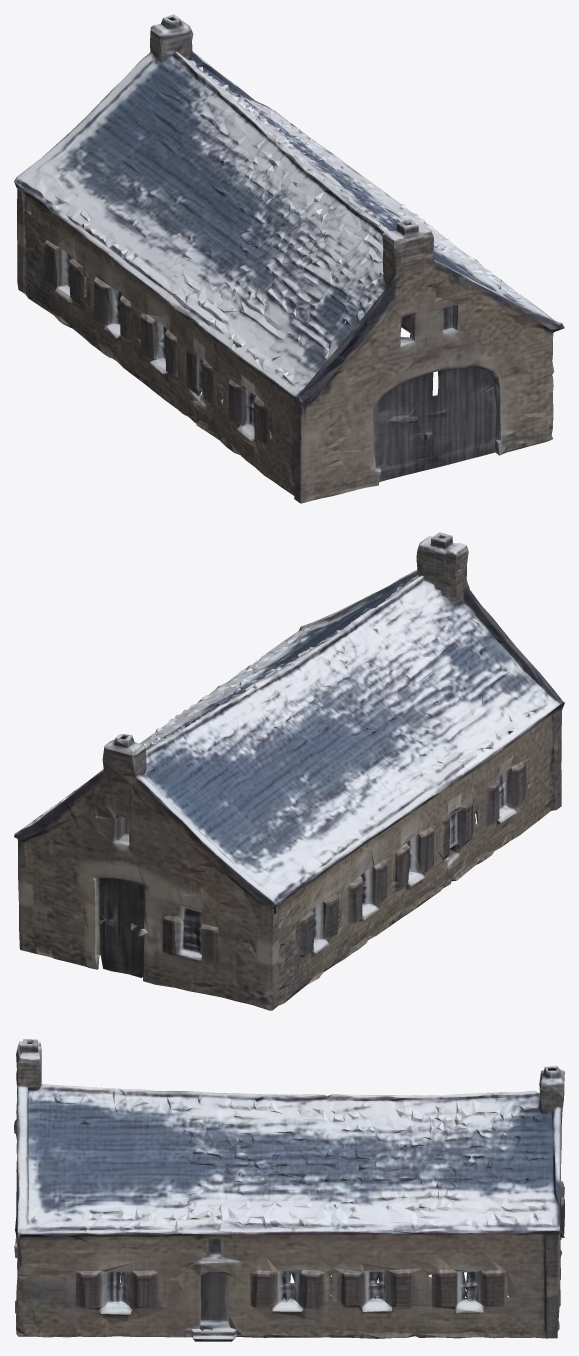
Rendered from farm_belgian.obj.
The picture shows the model from 3 angles, top to bottom: view 1: azimuth 30°, elevation 25°; view 2: azimuth 150°, elevation 25°; view 3: azimuth 270°, elevation 25°; orthographic projection. The views are drawn at different scales.
Visible parts, largest first — view 1: farm_belgian; view 2: farm_belgian; view 3: farm_belgian.
Part boxes in pixels (bbox=[...]): farm_belgian: bbox=[14, 14, 564, 503]; farm_belgian: bbox=[14, 532, 564, 1010]; farm_belgian: bbox=[14, 1039, 564, 1341].
Size of the model in its own units: 7.9 by 7.03 by 15.
1 material, 1 textured.
